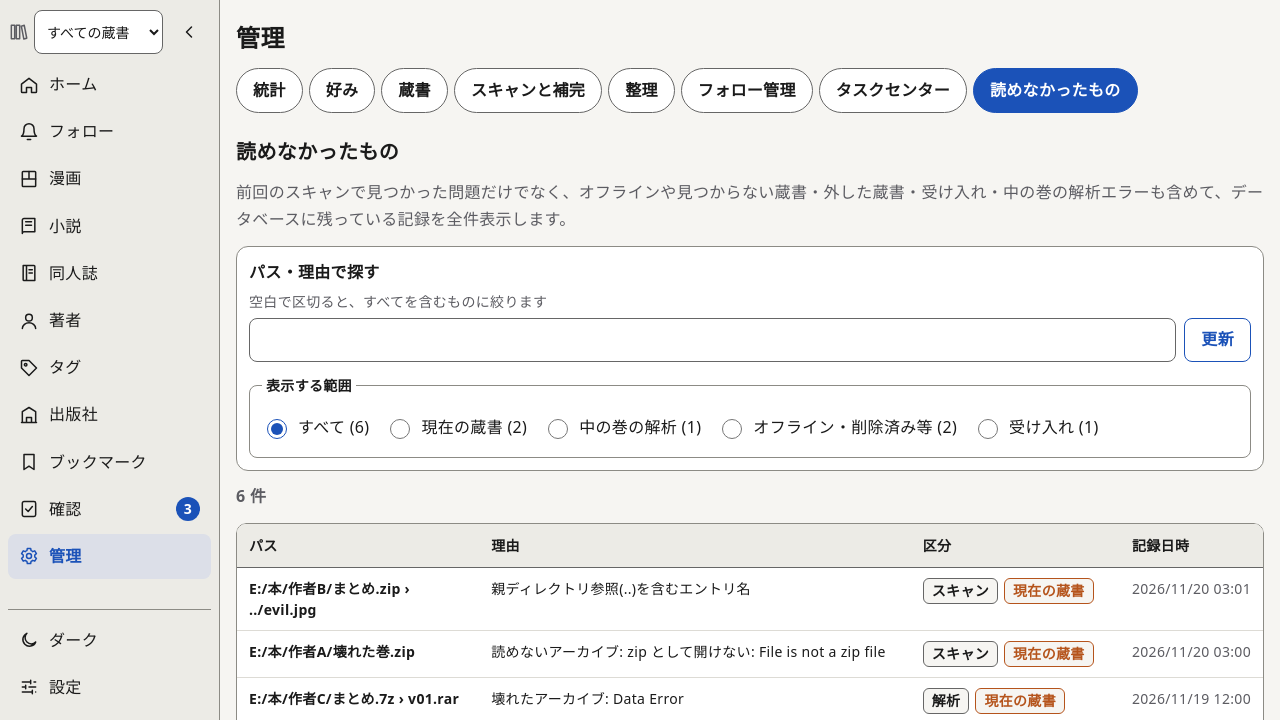
Test: 管理の読めなかったものタブ › 範囲のラジオボタンで絞り込みと件数表示ができる
The width and height of the screenshot is (1280, 720).
Expected: the radio button labelled "すべて (6)" is shown, [267, 419, 287, 439]
Expected: the radio button labelled "現在の蔵書 (2)" is shown, [390, 419, 410, 439]
Click the radio button labelled "中の巻の解析 (1)": (558,429) [548, 419, 568, 439]
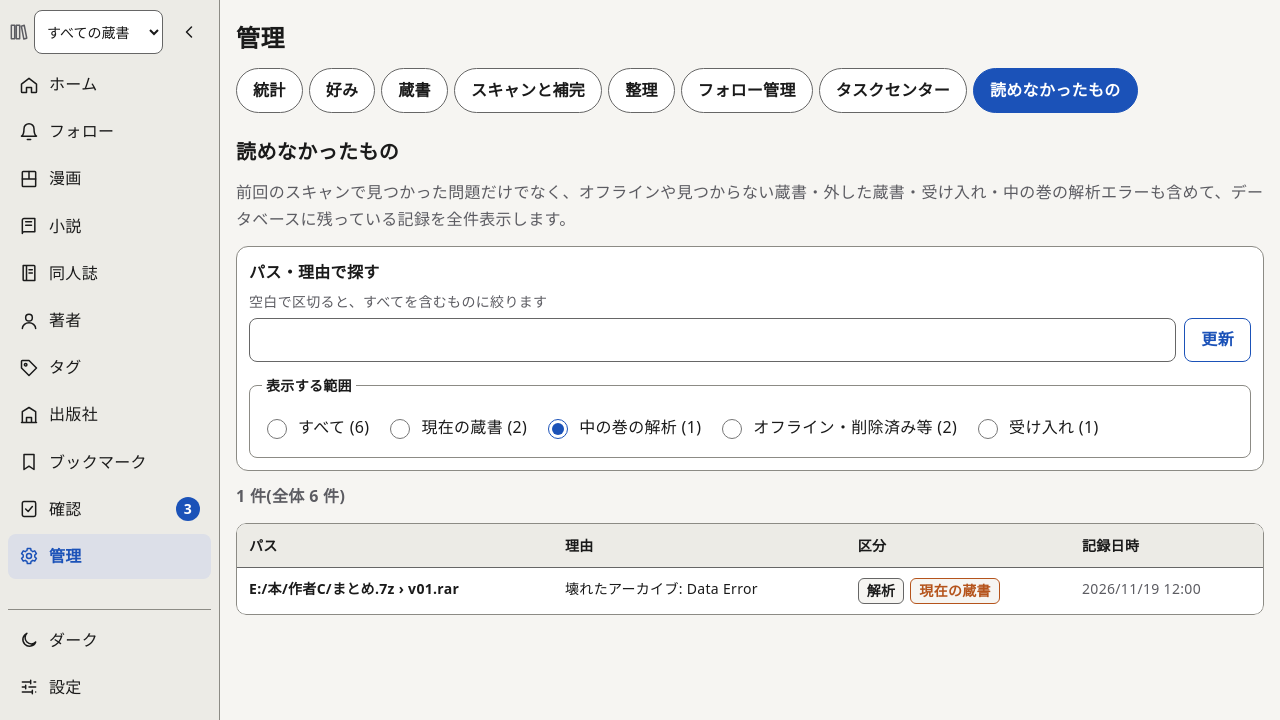
Expected: the column heading "E:/本/作者C/まとめ.7z › v01.rar" is shown, [237, 568, 553, 614]
Result: the number of rows is 2 at [237, 524, 1263, 568]; [237, 568, 1263, 614]
Result: the message reads "1 件(全体 6 件)" at [236, 485, 345, 507]
